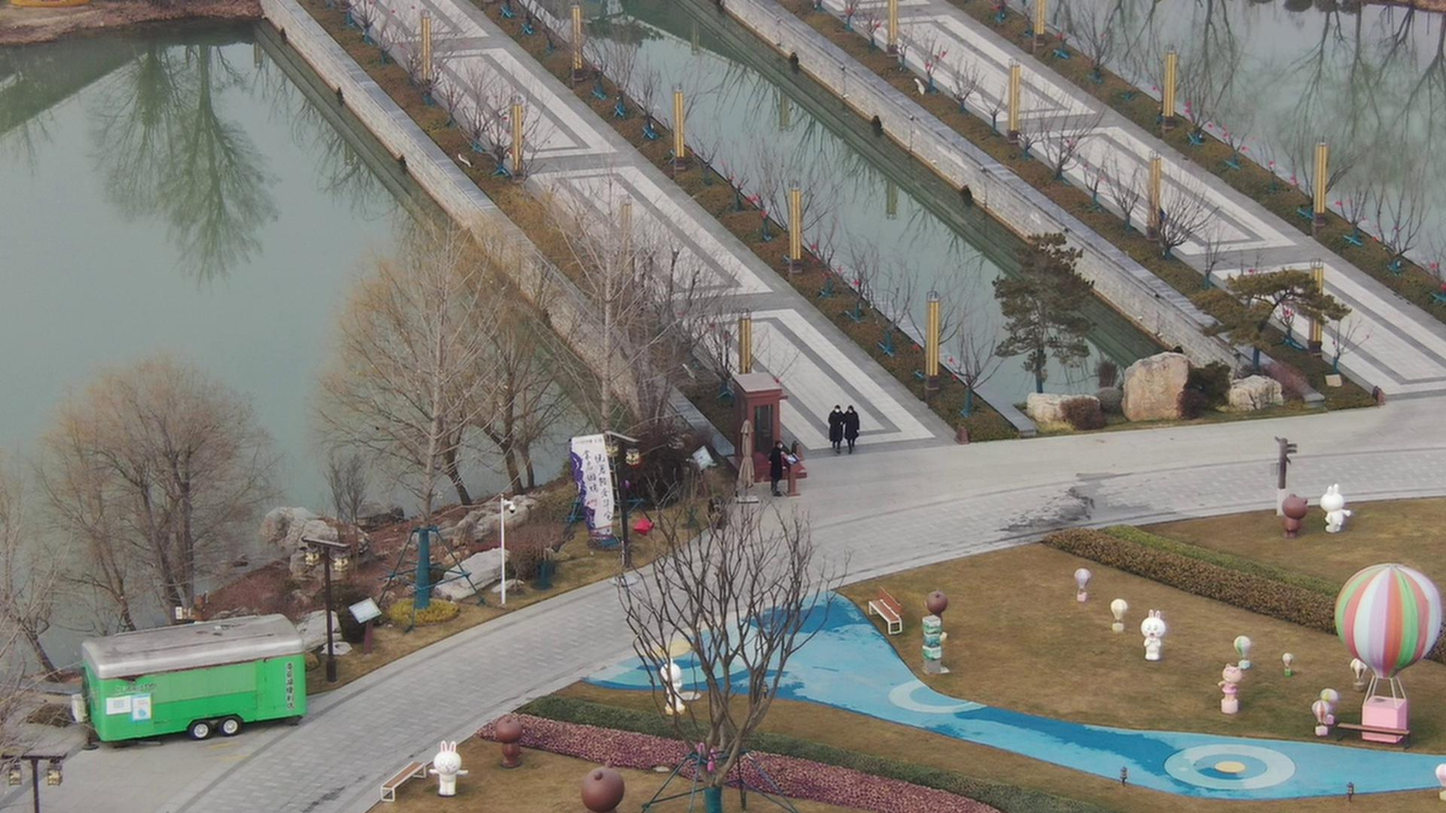class_2: (821, 402, 859, 458)
human: (761, 440, 786, 505)
